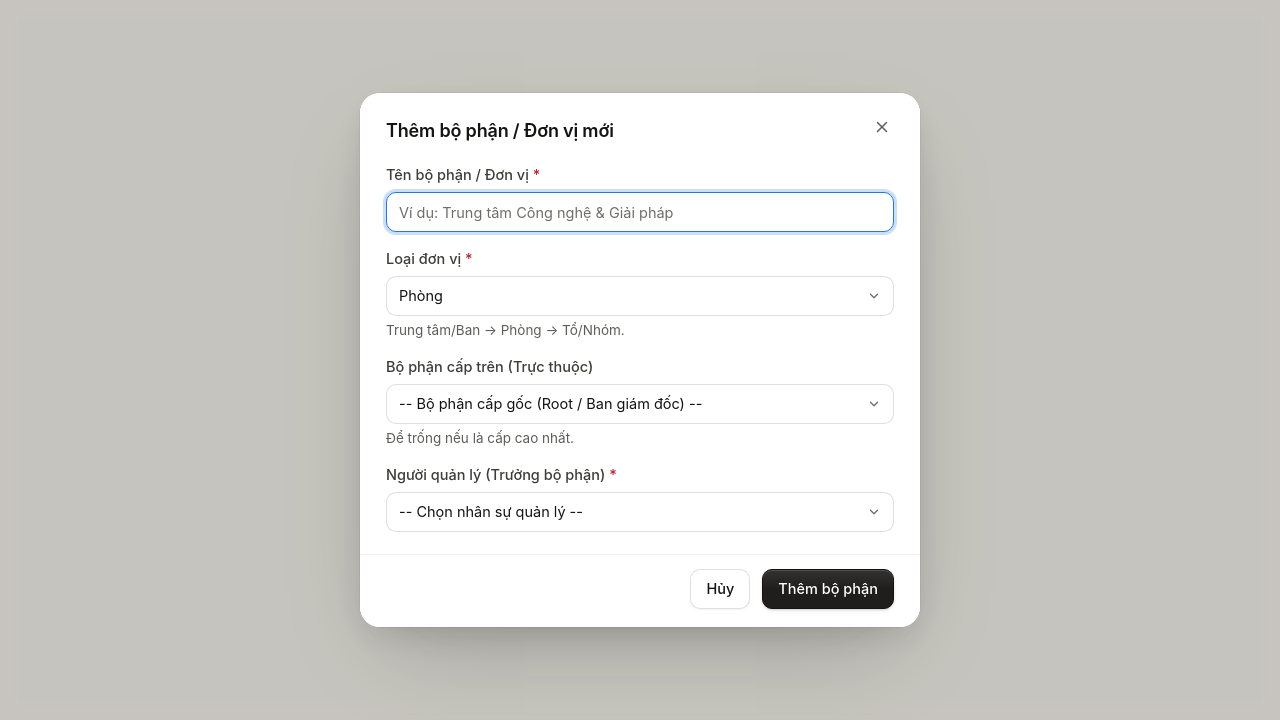
Test: Organization Tree Module — Acceptance Criteria Tests (NCL-01-CN-003) › TC-02: DepartmentFormModal validates required fields on creation
Step 1. Click the button "Thêm bộ phận" → (828,589), box [762,569,894,609]
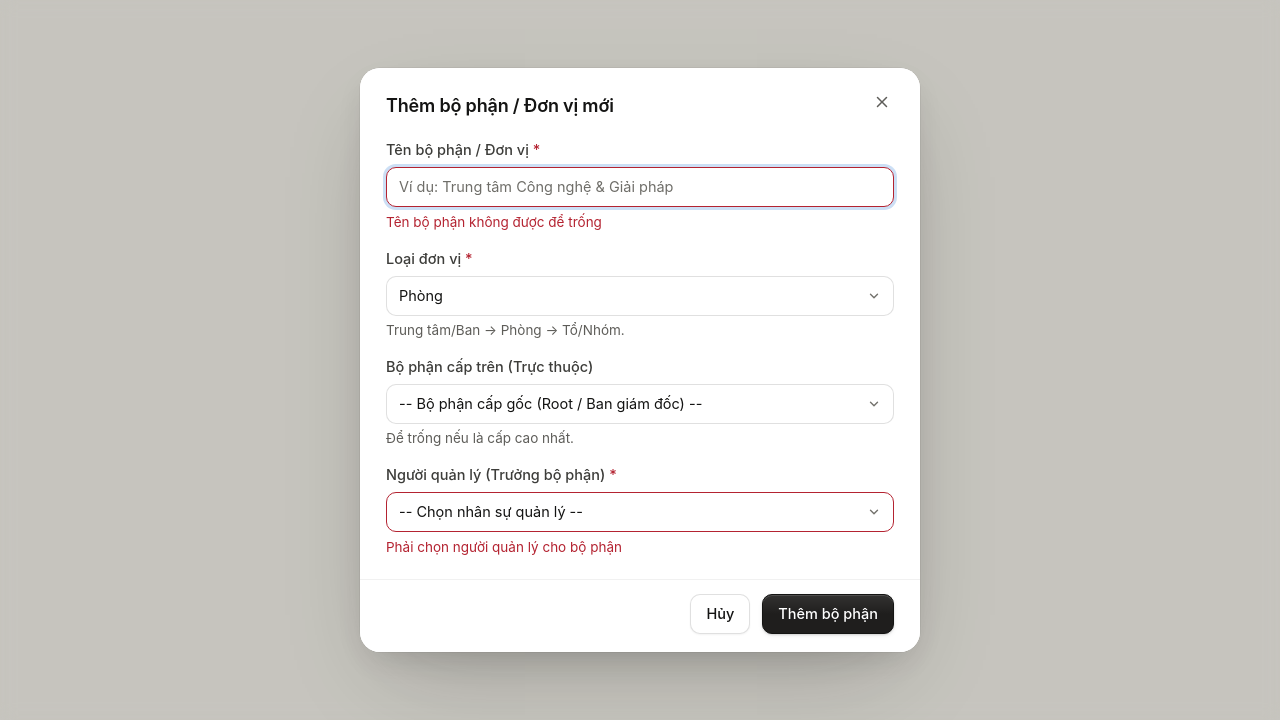
Expected: the text "Tên bộ phận không được để trống" is shown, [386,214,602,230]
